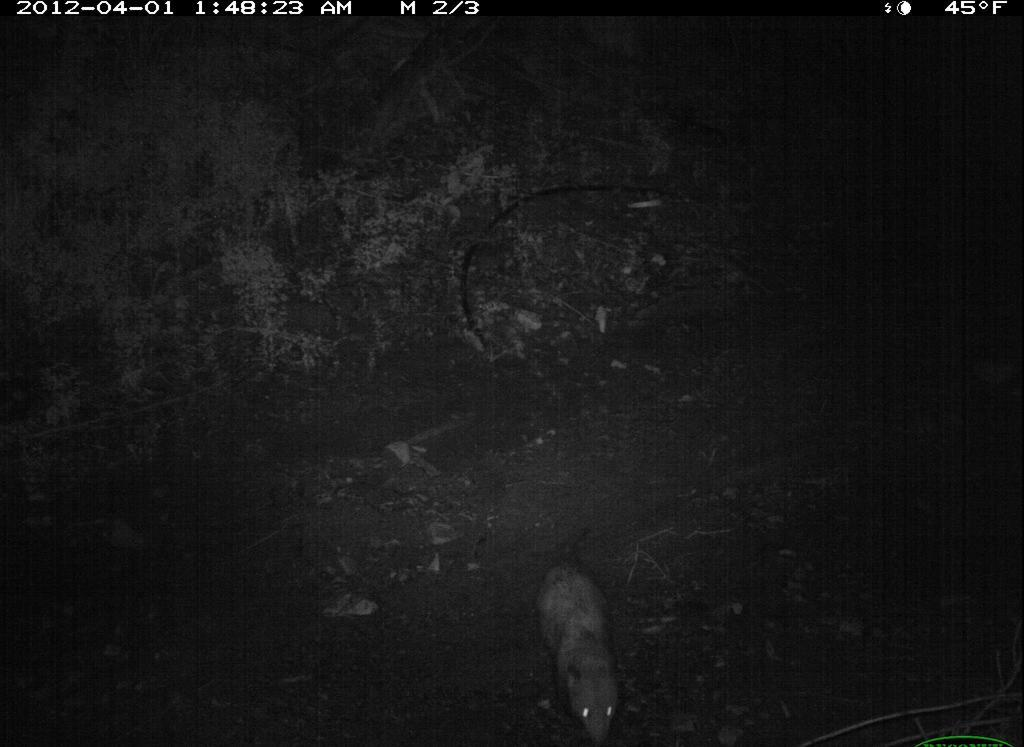opossum: (534, 523, 628, 747)
